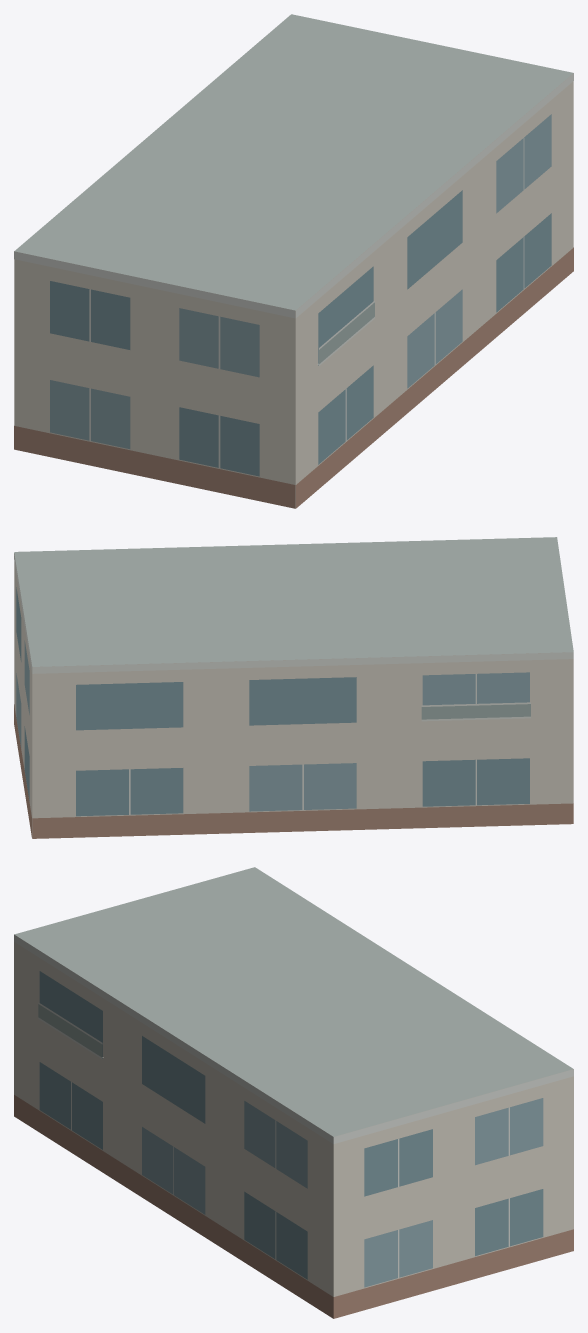
Rendered from survey-upis-32882648.glb.
3 renders of one model, top to bottom at view 1: azimuth 30°, elevation 25°; view 2: azimuth 150°, elevation 25°; view 3: azimuth 270°, elevation 25°, orthographic. The views are drawn at different scales.
Visible parts, largest first — view 1: survey-upis-32882648.tmp; view 2: survey-upis-32882648.tmp; view 3: survey-upis-32882648.tmp.
Boxes of the visible parts, <box> form: survey-upis-32882648.tmp: <box>14,14,573,508</box>; survey-upis-32882648.tmp: <box>14,537,573,838</box>; survey-upis-32882648.tmp: <box>14,867,573,1318</box>.
Bounding box in the file's own units: 19.42 × 6.1 × 17.02.
